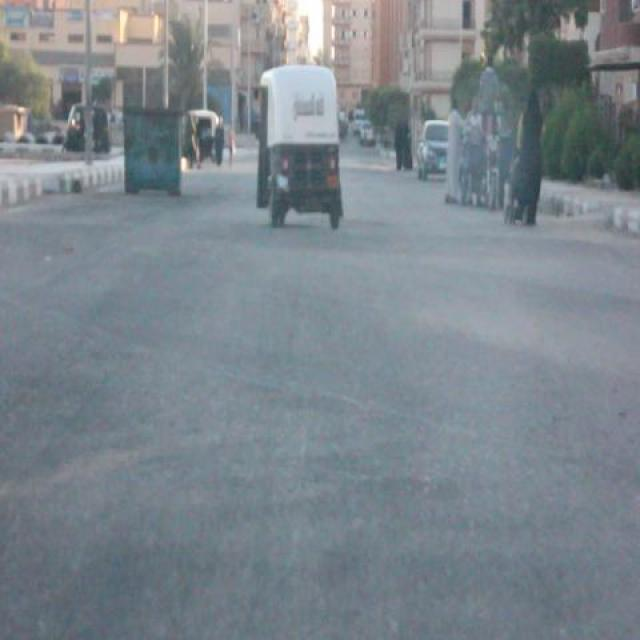Unmarked Bump: (196, 216, 630, 262)
